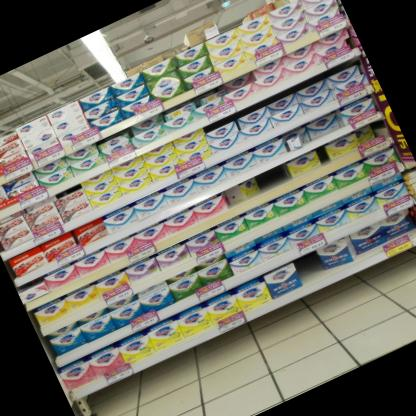empty_space: (292, 251, 328, 289), (255, 164, 293, 196)
